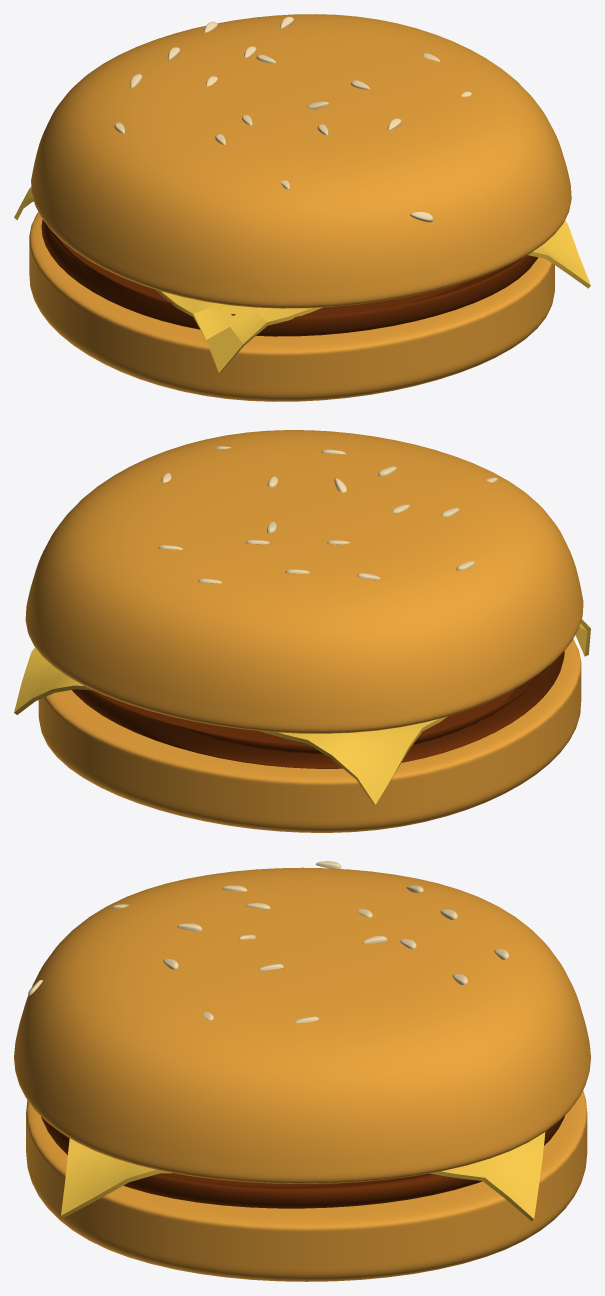
Rendered from hamburger.glb.
The picture shows the model from 3 angles, top to bottom: view 1: azimuth 30°, elevation 25°; view 2: azimuth 150°, elevation 25°; view 3: azimuth 270°, elevation 25°; orthographic projection. The views are drawn at different scales.
Parts seen in each view (by area): view 1: Cube.002, Cube, Cube.001, Plane; view 2: Cube.002, Cube, Cube.001, Plane; view 3: Cube.002, Cube, Cube.001, Plane.
Part boxes in pixels (x1=…): Cube.002: x1=31, y1=14, x2=571, y2=308; Cube: x1=29, y1=212, x2=554, y2=401; Cube.001: x1=41, y1=219, x2=537, y2=336; Plane: x1=14, y1=187, x2=590, y2=373; Cube.002: x1=25, y1=430, x2=583, y2=733; Cube: x1=38, y1=639, x2=581, y2=832; Cube.001: x1=72, y1=651, x2=564, y2=768; Plane: x1=14, y1=619, x2=590, y2=805; Cube.002: x1=14, y1=867, x2=590, y2=1183; Cube: x1=26, y1=1090, x2=587, y2=1281; Cube.001: x1=41, y1=1115, x2=564, y2=1208; Plane: x1=61, y1=1132, x2=545, y2=1221.
Size of the model in its own units: 9.57 by 4.56 by 9.55.
